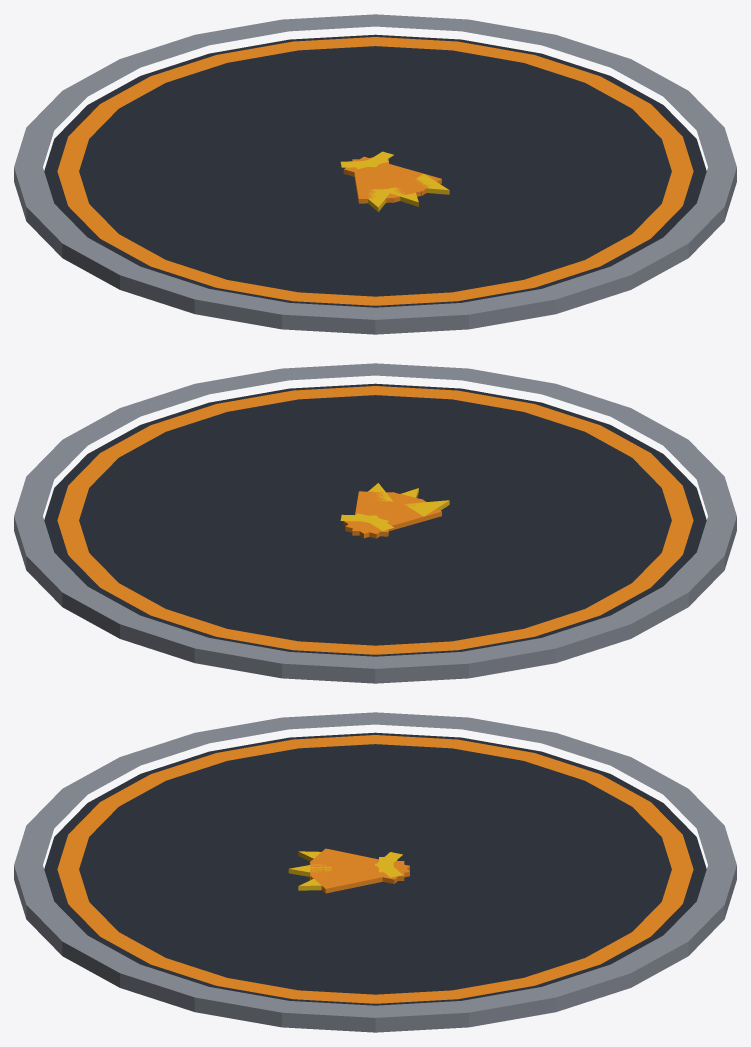
The model's file is machine_gunner_common_area.glb.
3 renders of one model, top to bottom at view 1: azimuth 30°, elevation 25°; view 2: azimuth 150°, elevation 25°; view 3: azimuth 270°, elevation 25°, orthographic.
Visible parts, largest first — view 1: machine_gunner_common_area; view 2: machine_gunner_common_area; view 3: machine_gunner_common_area.
Boxes of the visible parts, x1=… form: machine_gunner_common_area: x1=14, y1=14, x2=736, y2=334; machine_gunner_common_area: x1=14, y1=363, x2=736, y2=683; machine_gunner_common_area: x1=14, y1=712, x2=736, y2=1032.
Bounding box in the file's own units: 2 × 0.046 × 2.
1 material, 1 textured.
